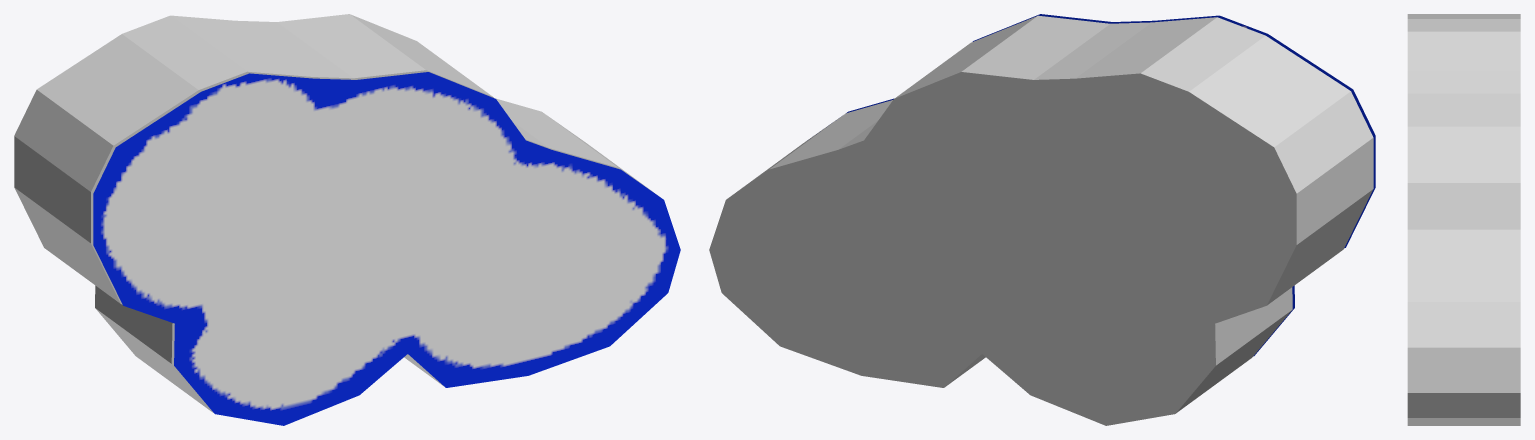
The picture shows the model from 3 angles, left to right: view 1: azimuth 30°, elevation 25°; view 2: azimuth 150°, elevation 25°; view 3: azimuth 270°, elevation 25°; orthographic projection. The views are drawn at different scales.
Parts seen in each view (by area): view 1: In_5-1, In_5-0; view 2: In_5-0, In_5-1; view 3: In_5-0.
Part boxes in pixels (x1=…): In_5-1: x1=93, y1=72, x2=680, y2=425; In_5-0: x1=14, y1=14, x2=656, y2=412; In_5-0: x1=709, y1=15, x2=1373, y2=425; In_5-1: x1=846, y1=14, x2=1375, y2=356; In_5-0: x1=1407, y1=14, x2=1520, y2=425.
Bounding box in the file's own units: 2.21 × 1.33 × 0.515.
Materials: 2 (1 with a texture image).
